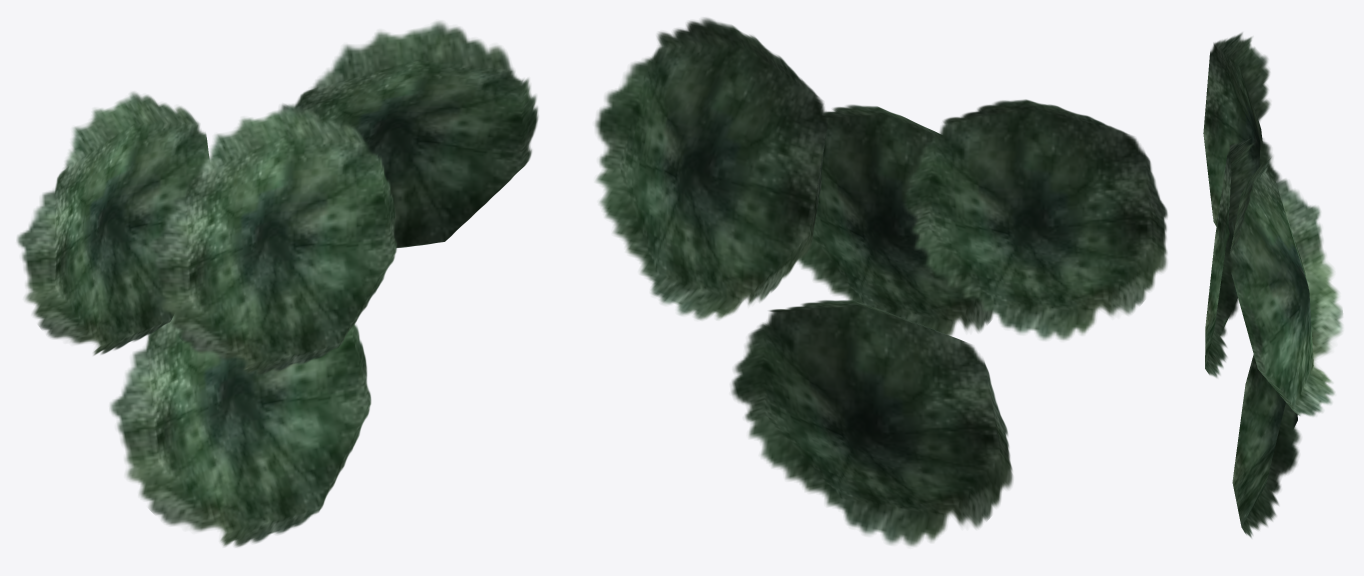
3 views of the same model, side by side, from view 1: azimuth 30°, elevation 25°; view 2: azimuth 150°, elevation 25°; view 3: azimuth 270°, elevation 25° (orthographic). The views are drawn at different scales.
Visible parts, largest first — view 1: model_Object27; view 2: model_Object27; view 3: model_Object27.
Part boxes in pixels (box(x1,y1,x2,y2)): model_Object27: box(17, 21, 538, 546); model_Object27: box(595, 18, 1167, 546); model_Object27: box(1203, 32, 1342, 537).
Bounding box in the file's own units: 2.91 × 2.45 × 0.7388.
Materials: 1 (1 with a texture image).
